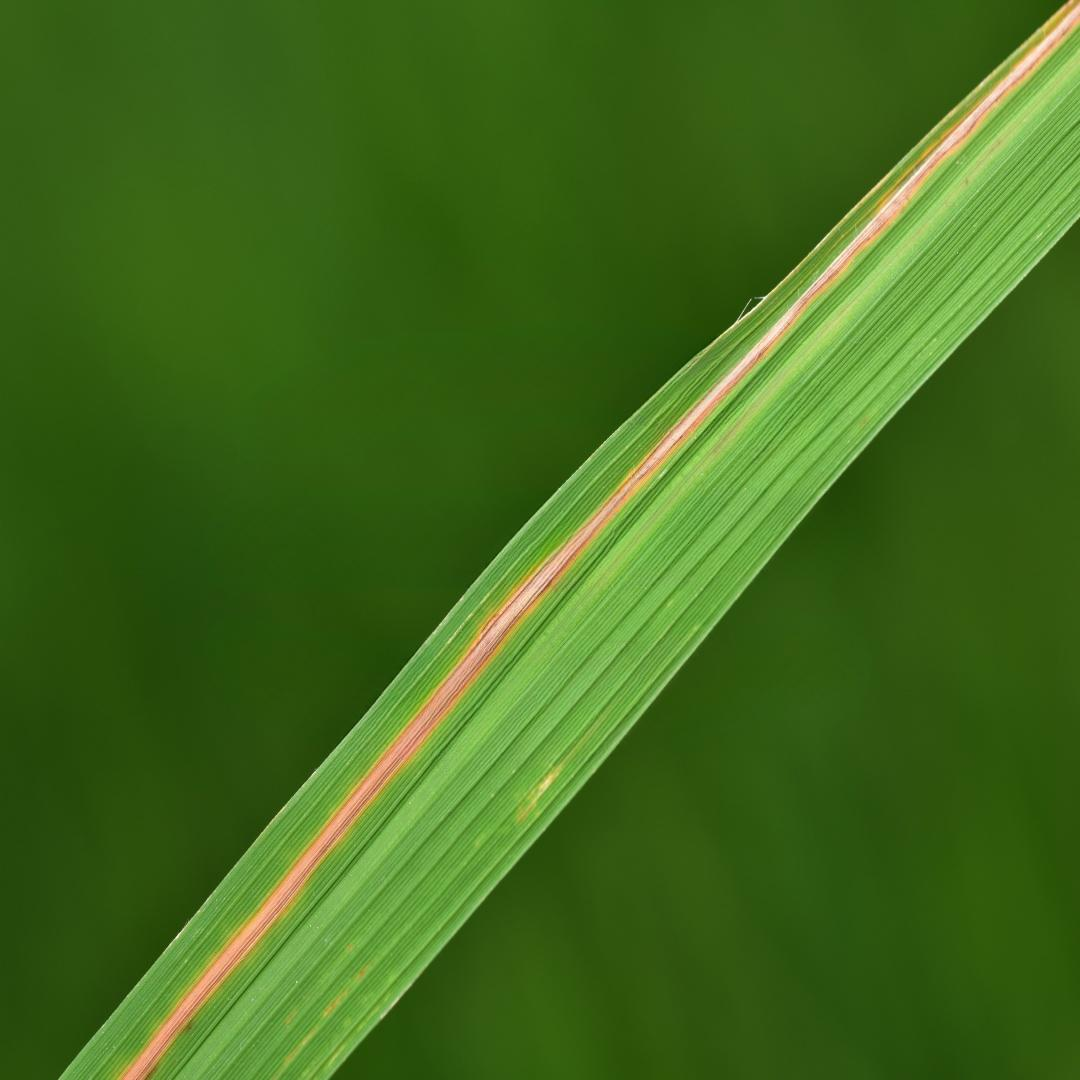BLB: (121, 3, 1079, 1079), (706, 1, 1073, 351)
LEAF: (62, 0, 1079, 1079)
